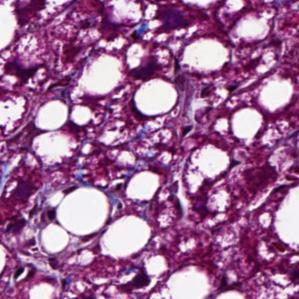inflammation: (0, 46, 47, 92), (119, 49, 172, 86), (114, 265, 158, 298)
